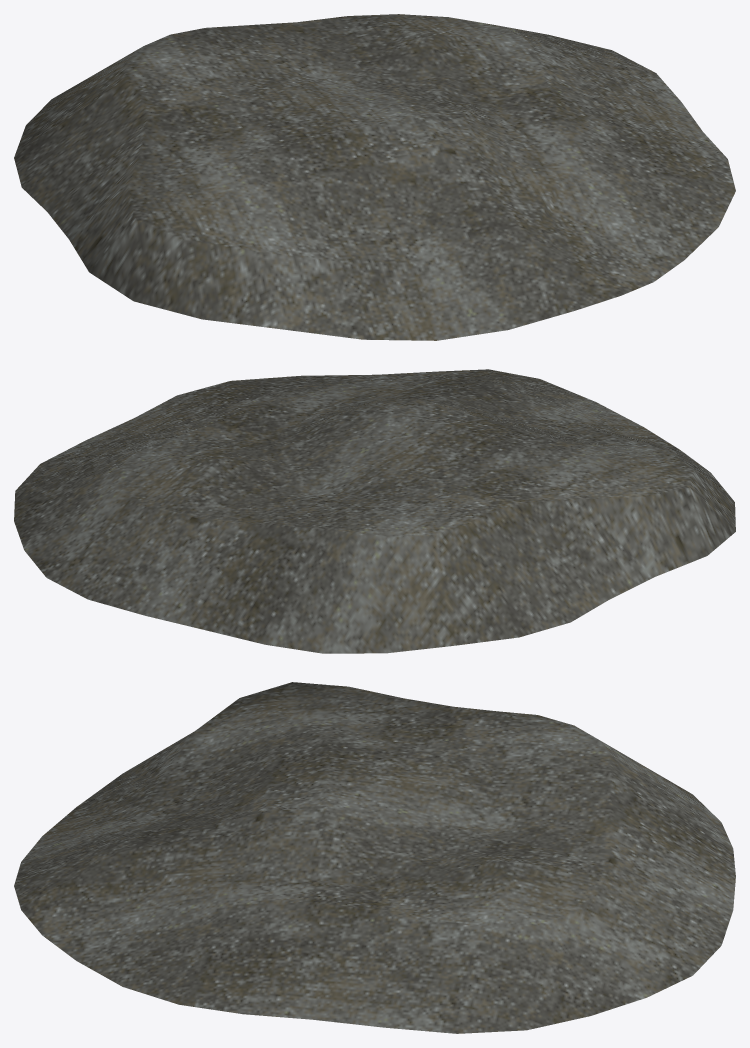
File: rockPlate1.fbx
3 renders of one model, top to bottom at view 1: azimuth 30°, elevation 25°; view 2: azimuth 150°, elevation 25°; view 3: azimuth 270°, elevation 25°, orthographic. The views are drawn at different scales.
Parts seen in each view (by area): view 1: Plane; view 2: Plane; view 3: Plane.
Part boxes in pixels (<box>): Plane: <box>14,14,735,340</box>; Plane: <box>14,369,735,653</box>; Plane: <box>14,682,735,1033</box>.
Size of the model in its own units: 1039 by 146 by 1031.
